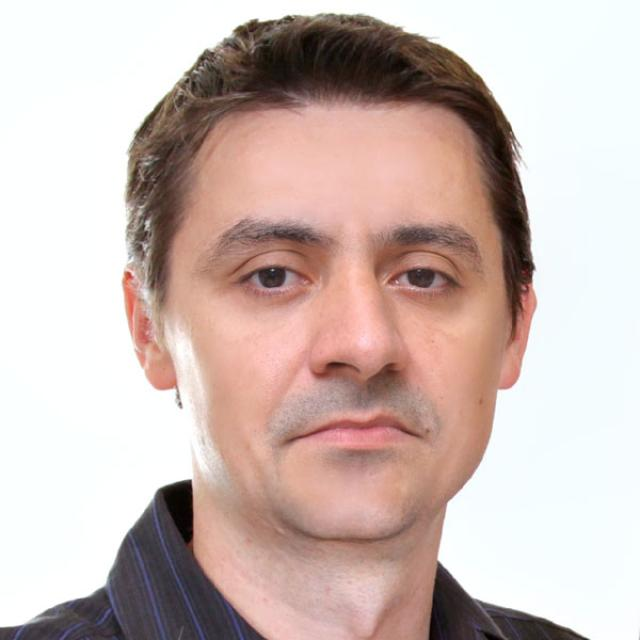face: (143, 111, 560, 551)
